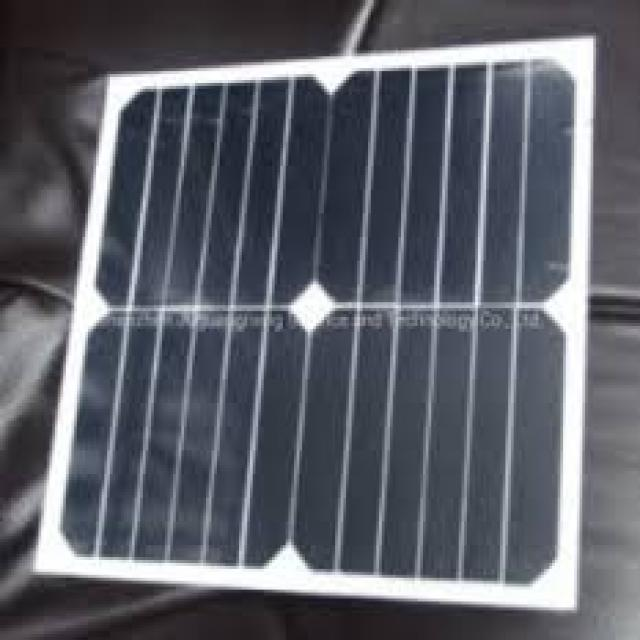no faulty: (80, 80, 588, 596)
